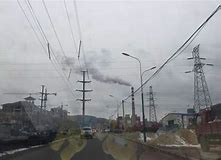smoke: (80, 63, 132, 88)
